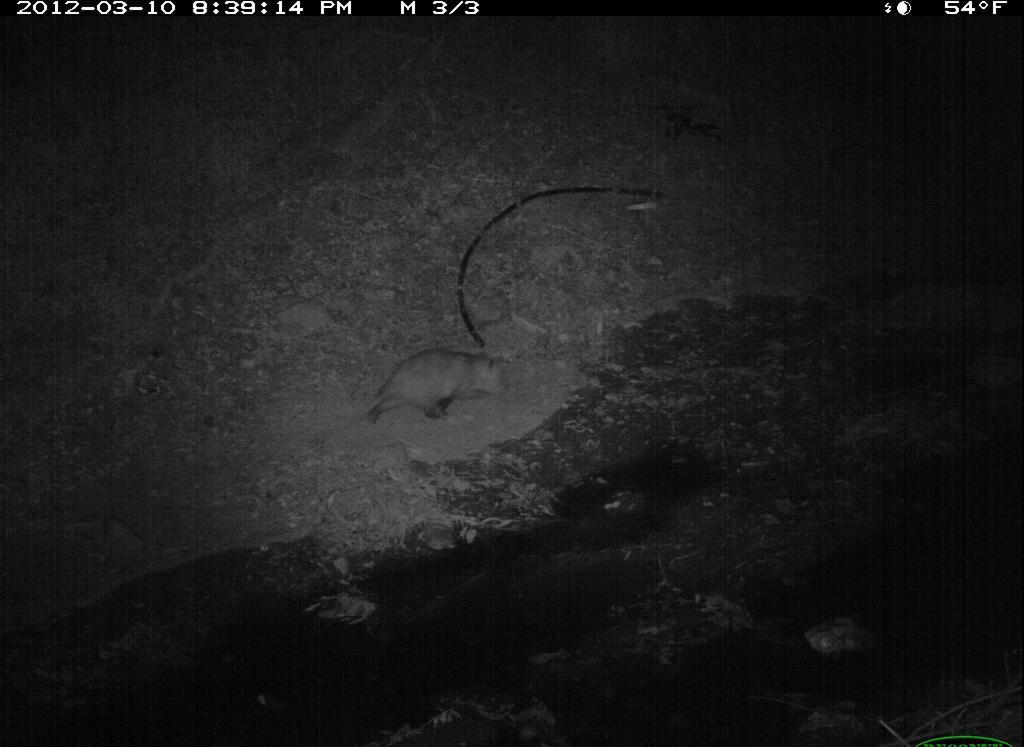opossum: (346, 344, 524, 445)
